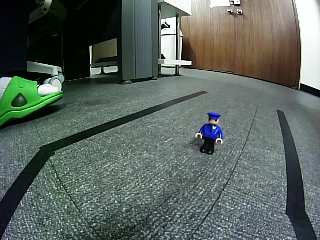person: (195, 112, 223, 155)
